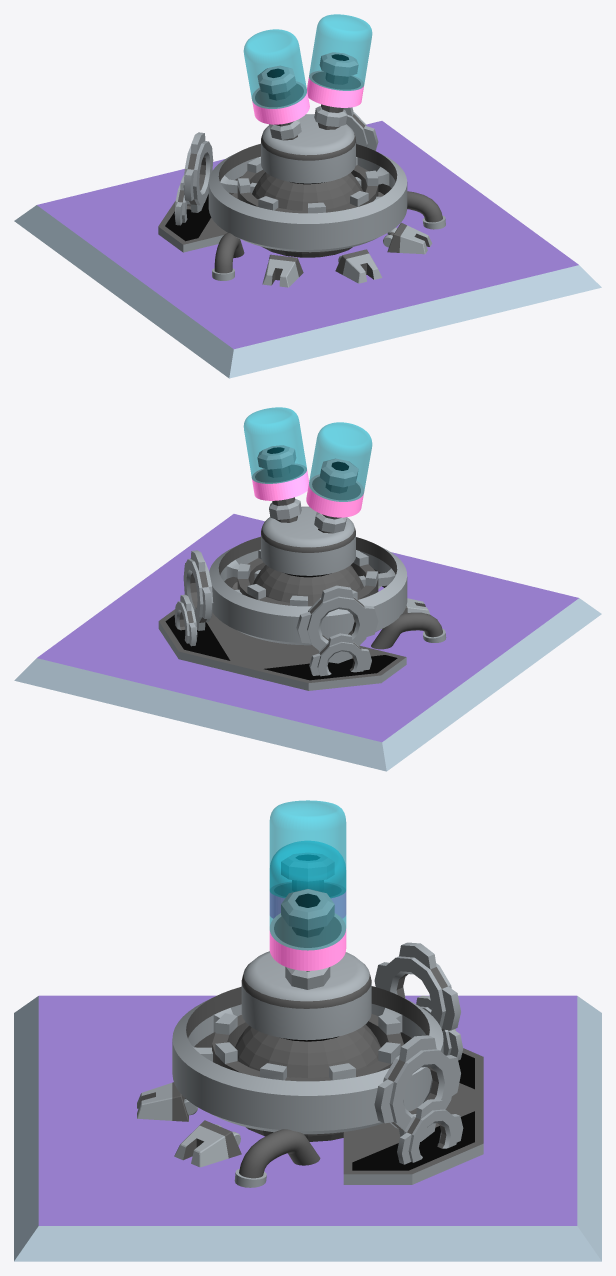
The model's file is 75_Haarvester_ALPHA2.fbx.
3 views of the same model, one above another, from view 1: azimuth 30°, elevation 25°; view 2: azimuth 150°, elevation 25°; view 3: azimuth 270°, elevation 25° (orthographic). The views are drawn at different scales.
Visible parts, largest first — view 1: foundation_harvester2, pPipe3, pCylinder66 (×2), pCylinder68, pSphere23, polySurface40 (×3), pump5 (×2), pPipe4, pPlane28, pPipe6, pCylinder81, pCylinder80 (+2 smaller); view 2: foundation_harvester2, pCylinder66 (×2), pPipe3, pPlane28, pCylinder68, pPipe6, pSphere23, pump5 (×2), pPipe4, pPipe9, pCylinder81, pPipe14 (+2 smaller); view 3: foundation_harvester2, pPipe3, pCylinder66 (×2), pCylinder68, pPlane28, pSphere23, pPipe9, pPipe4, pump5 (×2), polySurface40 (×2), pPipe6, pCylinder80 (+3 smaller).
Part boxes in pixels (<box>): foundation_harvester2: <box>14,121,601,378</box>; pPipe3: <box>208,143,407,252</box>; pCylinder66 (×2): <box>243,14,372,124</box>; pCylinder68: <box>261,114,355,183</box>; pSphere23: <box>252,172,362,257</box>; polySurface40 (×3): <box>262,222,432,287</box>; pump5 (×2): <box>257,52,358,140</box>; pPipe4: <box>237,157,378,213</box>; pPlane28: <box>158,191,383,252</box>; pPipe6: <box>183,132,213,212</box>; pCylinder81: <box>212,233,244,280</box>; pCylinder80: <box>407,191,445,229</box>; foundation_harvester2: <box>14,514,601,771</box>; pCylinder66 (×2): <box>243,407,372,517</box>; pPipe3: <box>209,536,407,645</box>; pPlane28: <box>158,609,406,690</box>; pCylinder68: <box>261,506,355,575</box>; pPipe6: <box>296,585,378,663</box>; pSphere23: <box>253,565,363,603</box>; pump5 (×2): <box>257,445,358,533</box>; pPipe4: <box>237,549,378,606</box>; pPipe9: <box>183,550,213,630</box>; pCylinder81: <box>371,612,446,649</box>; pPipe14: <box>309,633,371,676</box>; foundation_harvester2: <box>14,995,601,1261</box>; pPipe3: <box>172,986,443,1134</box>; pCylinder66 (×2): <box>269,800,346,970</box>; pCylinder68: <box>241,951,371,1040</box>; pPlane28: <box>343,1048,483,1184</box>; pSphere23: <box>235,1024,380,1141</box>; pPipe9: <box>374,1035,460,1141</box>; pPipe4: <box>212,1013,403,1081</box>; pump5 (×2): <box>281,853,334,971</box>; polySurface40 (×2): <box>137,1082,241,1167</box>; pPipe6: <box>374,942,460,1031</box>; pCylinder80: <box>234,1129,320,1187</box>.
Size of the model in its own units: 2 by 1.22 by 2.
